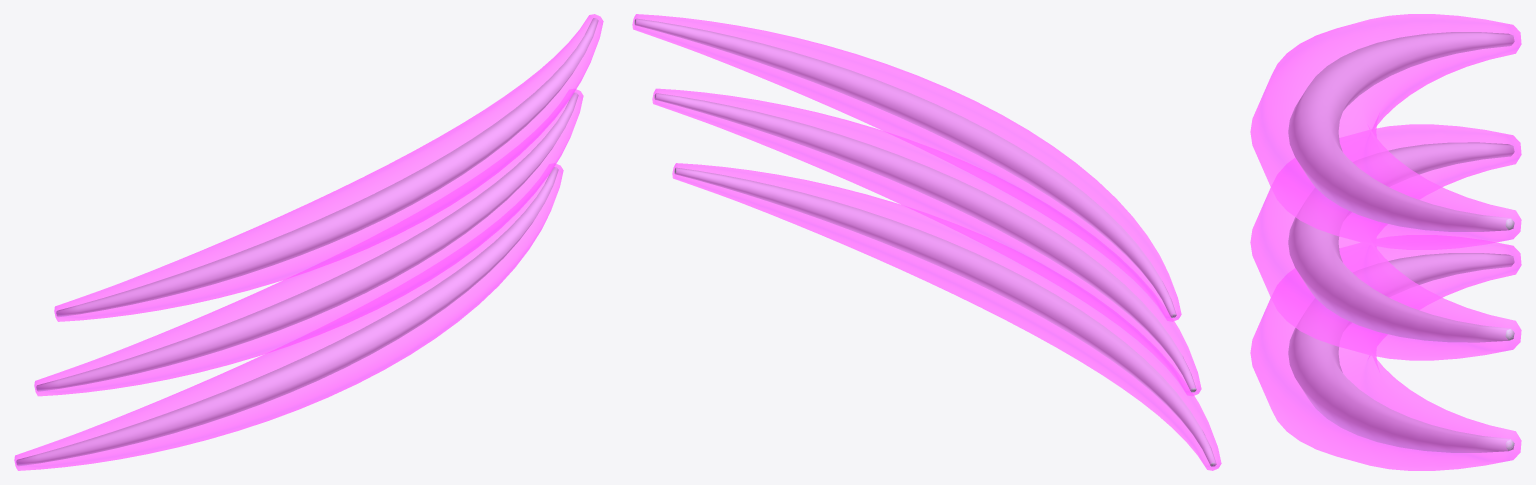
The model's file is NIGHTFANG_clawslash_vfx.fbx.
3 renders of one model, left to right at view 1: azimuth 30°, elevation 25°; view 2: azimuth 150°, elevation 25°; view 3: azimuth 270°, elevation 25°, orthographic. The views are drawn at different scales.
Parts seen in each view (by area): view 1: NIGHTFANG_clawslash_vfx; view 2: NIGHTFANG_clawslash_vfx; view 3: NIGHTFANG_clawslash_vfx.
Boxes of the visible parts, x1,y1,x2,y2 form: NIGHTFANG_clawslash_vfx: (14, 14, 603, 470); NIGHTFANG_clawslash_vfx: (632, 14, 1221, 470); NIGHTFANG_clawslash_vfx: (1250, 14, 1521, 470).
Size of the model in its own units: 0.7951 by 0.409 by 0.1723.
